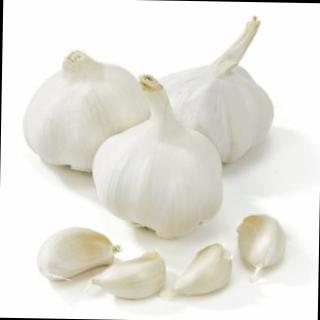Bawang Putih: (150, 16, 277, 166), (91, 113, 224, 240), (23, 49, 153, 174), (37, 227, 119, 281), (93, 250, 168, 300), (175, 243, 234, 297), (236, 213, 286, 271)
